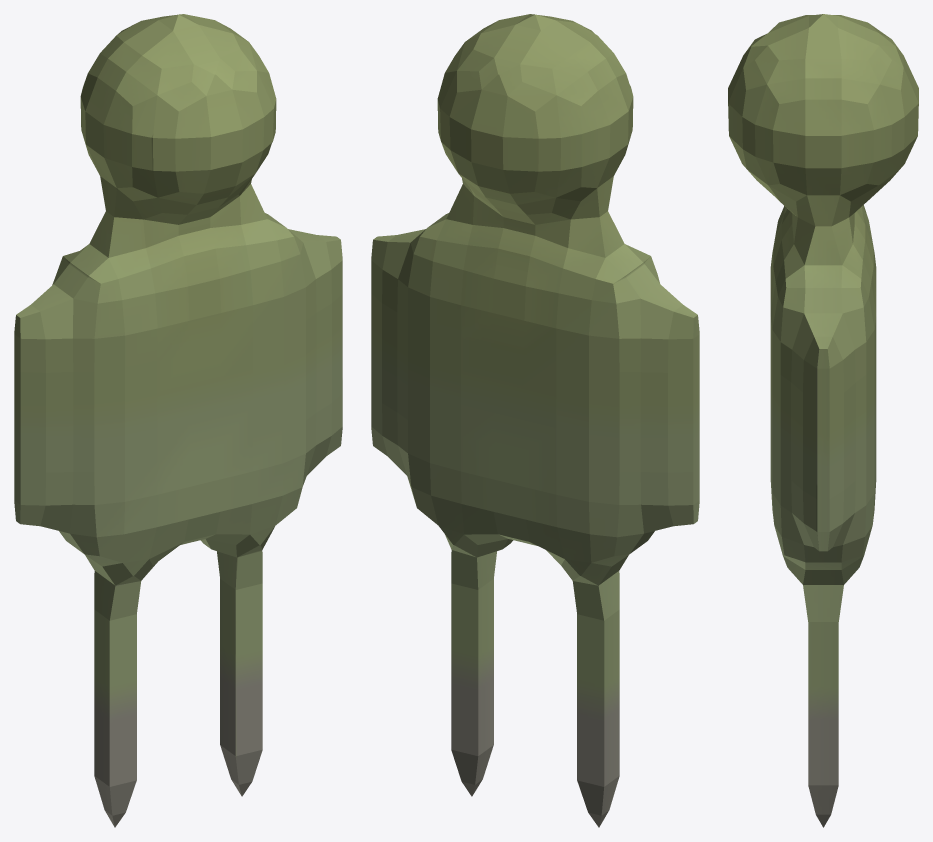
The model's file is skeletalArcher.glb.
3 renders of one model, left to right at view 1: azimuth 30°, elevation 25°; view 2: azimuth 150°, elevation 25°; view 3: azimuth 270°, elevation 25°, orthographic.
Visible parts, largest first — view 1: geometry_0; view 2: geometry_0; view 3: geometry_0.
Part boxes in pixels (x1,y1,x2,y2): geometry_0: (14,14,342,827); geometry_0: (371,14,699,827); geometry_0: (728,14,918,827).
Bounding box in the file's own units: 0.4226 × 1 × 0.2207.
1 material, 1 textured.
